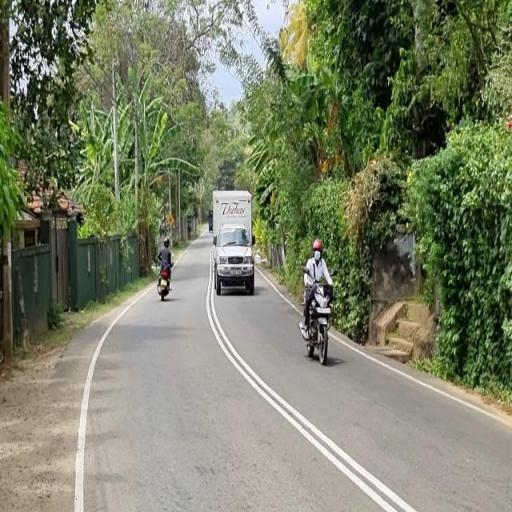double_white_line: (206, 283, 418, 511)
